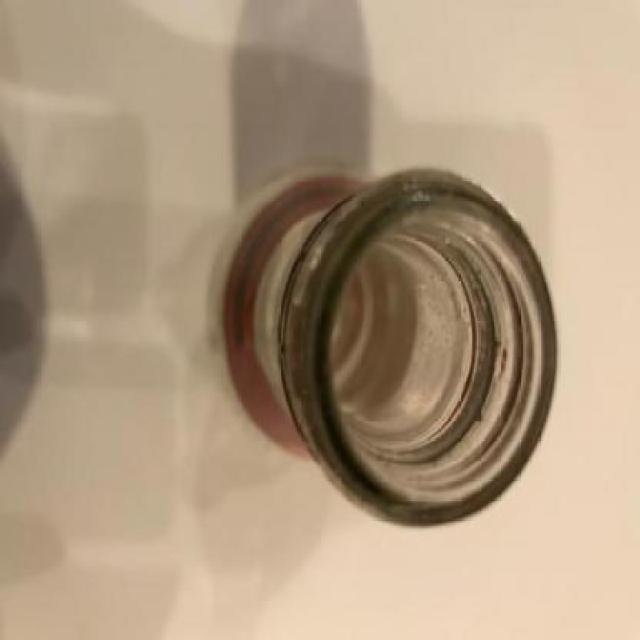glass: (215, 169, 557, 531)
